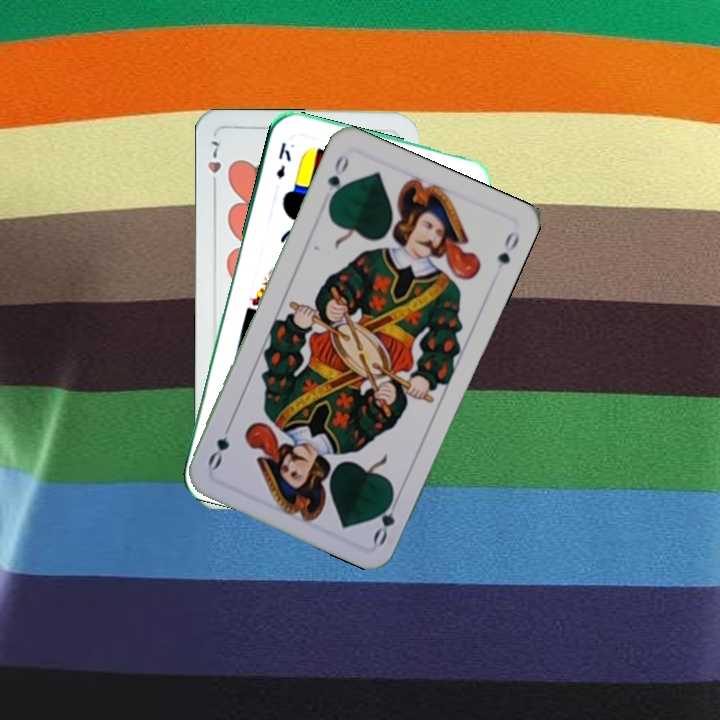EK: (272, 137, 294, 182)
GO: (369, 488, 403, 548), (323, 151, 352, 208)
H7: (204, 136, 224, 193)
